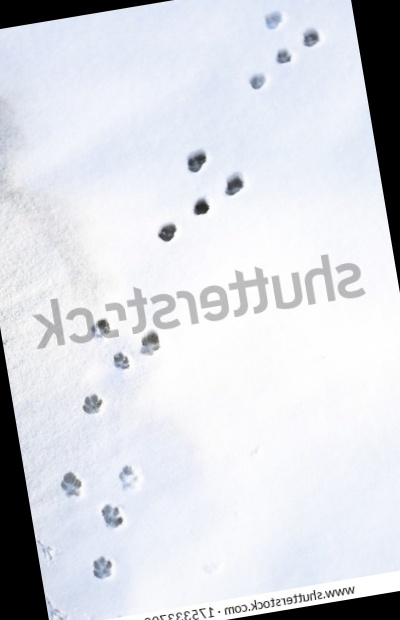rabbit: (120, 136, 274, 276)
